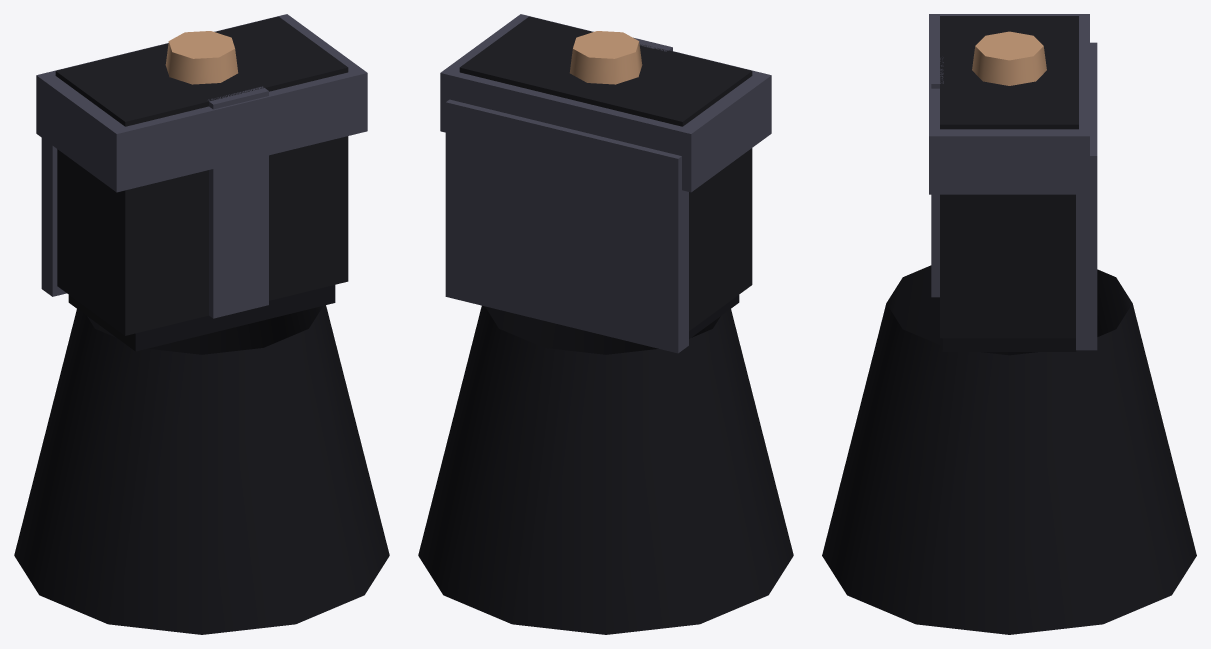
The model's file is PVeladora_Torso.obj.
The picture shows the model from 3 angles, left to right: view 1: azimuth 30°, elevation 25°; view 2: azimuth 150°, elevation 25°; view 3: azimuth 270°, elevation 25°; orthographic projection.
Parts seen in each view (by area): view 1: Torso; view 2: Torso; view 3: Torso.
Part boxes in pixels (left/top/right/bottom): Torso: left=14, top=14, right=389, bottom=634; Torso: left=418, top=14, right=793, bottom=634; Torso: left=822, top=14, right=1196, bottom=634.
Size of the model in its own units: 0.35 by 0.525 by 0.35.
1 material, 1 textured.
